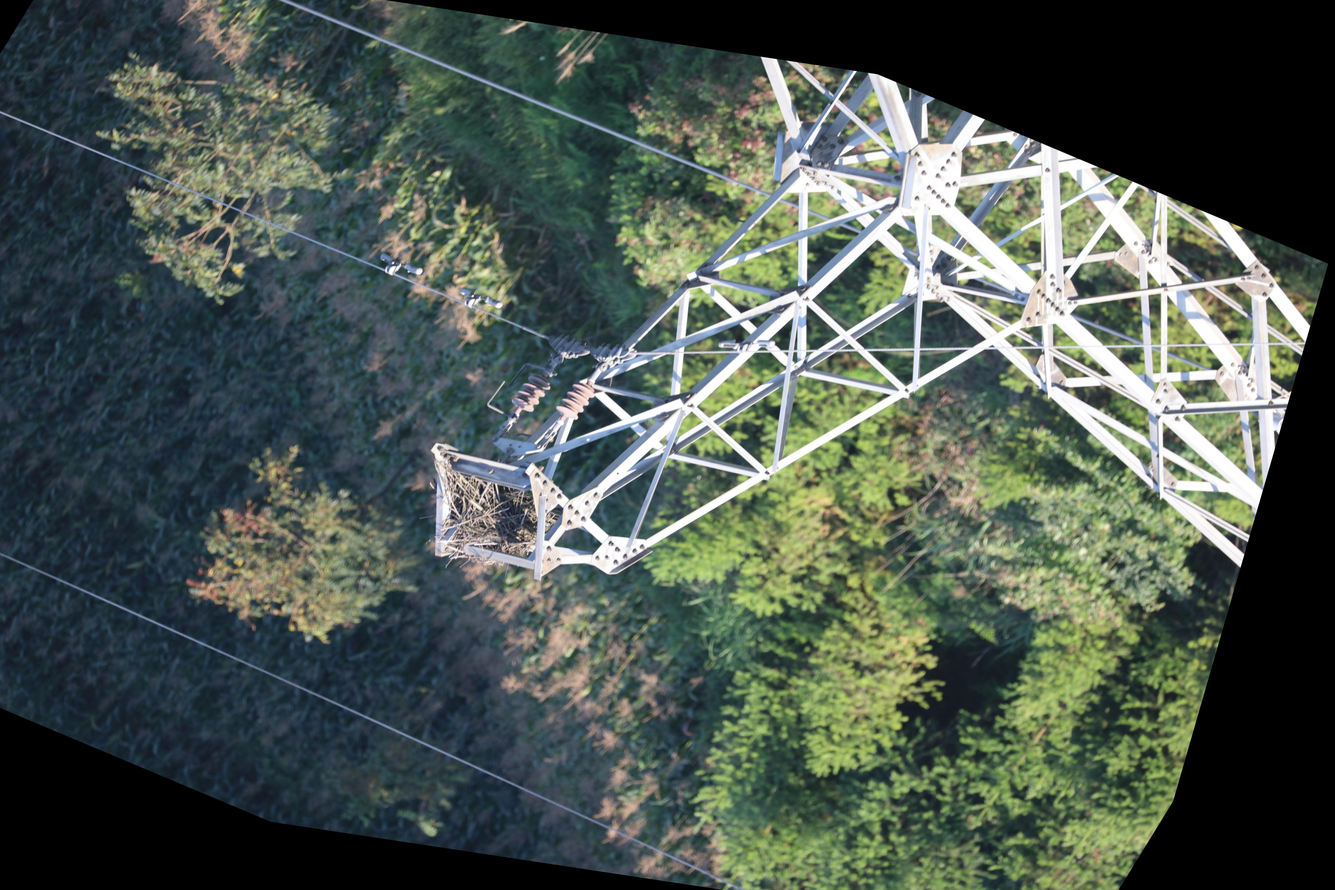damper: (709, 317, 785, 371), (366, 246, 431, 289), (446, 281, 512, 323)
